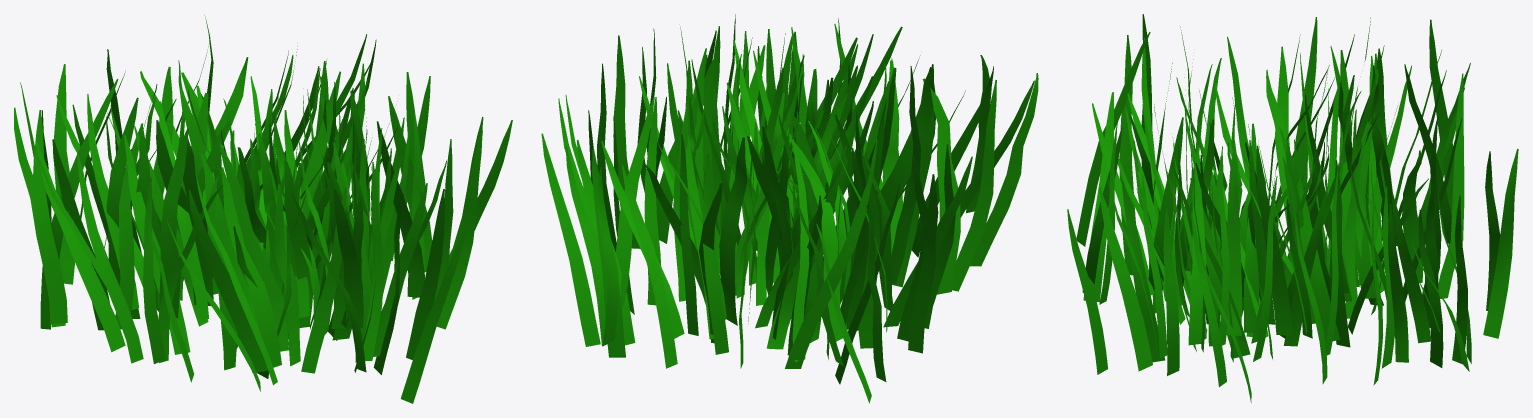
File: grass.fbx
3 renders of one model, left to right at view 1: azimuth 30°, elevation 25°; view 2: azimuth 150°, elevation 25°; view 3: azimuth 270°, elevation 25°, orthographic.
Parts seen in each view (by area): view 1: Plane.004; view 2: Plane.004; view 3: Plane.004.
Boxes of the visible parts, bbox=[...] form: Plane.004: bbox=[14, 15, 512, 403]; Plane.004: bbox=[541, 14, 1038, 403]; Plane.004: bbox=[1067, 14, 1518, 403].
Bounding box in the file's own units: 994 × 608 × 948.
